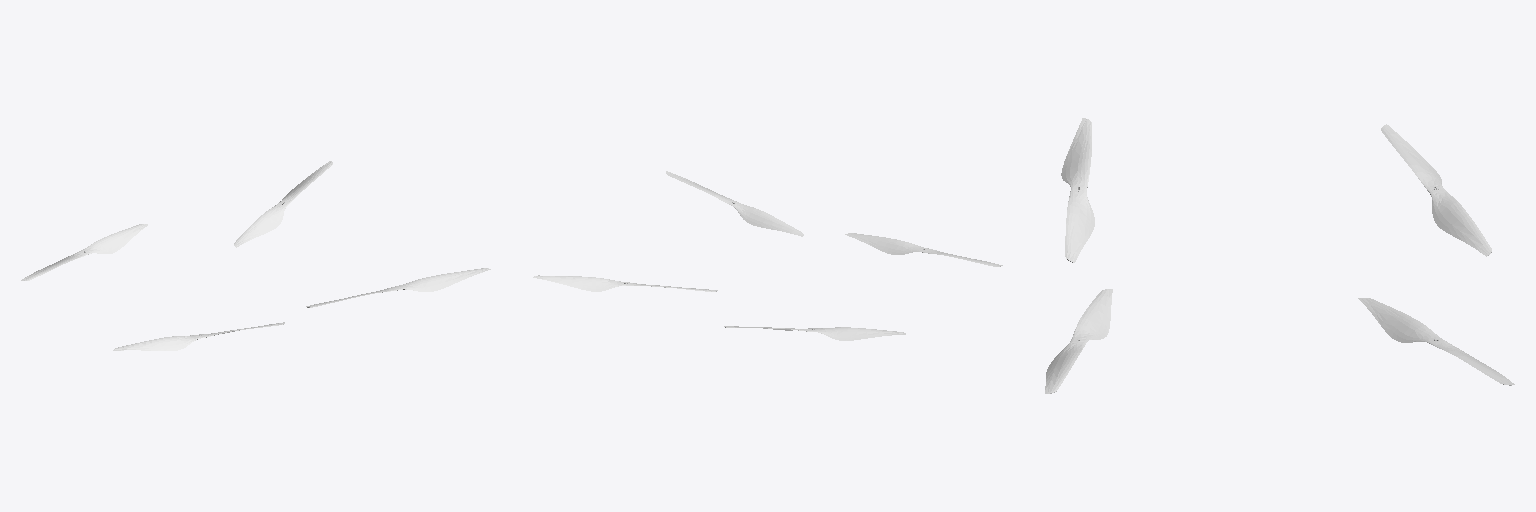
robot.urdf — aerial:
<?xml version="1.0" encoding="utf-8"?>
<!-- This URDF was automatically created by SolidWorks to URDF Exporter! Originally created by Stephen Brawner ([email redacted]) 
     Commit Version: 1.6.0-1-g15f4949  Build Version: 1.6.7594.29634
     For more information, please see http://wiki.ros.org/sw_urdf_exporter -->
<robot
  name="aerial">
  <link
    name="quadcore">
    <inertial>
      <origin
        xyz="0.009579 -0.0033492 -0.025285"
        rpy="0 0 0" />
      <mass
        value="5.2815" />
      <inertia
        ixx="0.022733"
        ixy="-3.0215E-05"
        ixz="2.666E-05"
        iyy="0.022153"
        iyz="-5.9394E-05"
        izz="0.034666" />
    </inertial>
    <visual>
      <origin
        xyz="0 0 0"
        rpy="0 0 0" />
      <geometry>
        <mesh
          filename="package://aerial/URDF/meshes/quadcore.STL" />
      </geometry>
      <material
        name="">
        <color
          rgba="0.75294 0.75294 0.75294 1" />
      </material>
    </visual>
    <collision>
      <origin
        xyz="0 0 0"
        rpy="0 0 0" />
      <geometry>
        <mesh
          filename="package://aerial/URDF/meshes/quadcore.STL" />
      </geometry>
    </collision>
  </link>
  <link
    name="frontright">
    <inertial>
      <origin
        xyz="-0.0016204 0.0016203 0.026192"
        rpy="0 0 0" />
      <mass
        value="0.096663" />
      <inertia
        ixx="9.7821E-05"
        ixy="0.00032002"
        ixz="-0.00010319"
        iyy="0.0013595"
        iyz="2.5135E-05"
        izz="0.0014378" />
    </inertial>
    <visual>
      <origin
        xyz="0 0 0"
        rpy="0 0 0" />
      <geometry>
        <mesh
          filename="package://aerial/URDF/meshes/frontright.STL" />
      </geometry>
      <material
        name="">
        <color
          rgba="0.92941 0.92941 0.92941 1" />
      </material>
    </visual>
    <collision>
      <origin
        xyz="0 0 0"
        rpy="0 0 0" />
      <geometry>
        <mesh
          filename="package://aerial/URDF/meshes/frontright.STL" />
      </geometry>
    </collision>
  </link>
  <joint
    name="frontrightlink"
    type="continuous">
    <origin
      xyz="0.32947 -0.32948 0.078321"
      rpy="0 0 0" />
    <parent
      link="quadcore" />
    <child
      link="frontright" />
    <axis
      xyz="-0.061628 0.061629 0.99619" />
  </joint>
  <link
    name="frontleft">
    <inertial>
      <origin
        xyz="-0.00086463 -0.00086464 0.013977"
        rpy="0 0 0" />
      <mass
        value="0.096713" />
      <inertia
        ixx="0.00041278"
        ixy="-0.00063121"
        ixz="-0.000103"
        iyy="0.0010477"
        iyz="-6.3724E-05"
        izz="0.0014362" />
    </inertial>
    <visual>
      <origin
        xyz="0 0 0"
        rpy="0 0 0" />
      <geometry>
        <mesh
          filename="package://aerial/URDF/meshes/frontleft.STL" />
      </geometry>
      <material
        name="">
        <color
          rgba="0.92941 0.92941 0.92941 1" />
      </material>
    </visual>
    <collision>
      <origin
        xyz="0 0 0"
        rpy="0 0 0" />
      <geometry>
        <mesh
          filename="package://aerial/URDF/meshes/frontleft.STL" />
      </geometry>
    </collision>
  </link>
  <joint
    name="frontleftlink"
    type="continuous">
    <origin
      xyz="0.32872 0.32872 0.090436"
      rpy="0 0 0" />
    <parent
      link="quadcore" />
    <child
      link="frontleft" />
    <axis
      xyz="-0.061629 -0.061628 0.99619" />
  </joint>
  <link
    name="backleft">
    <inertial>
      <origin
        xyz="0.0023096 -0.0023105 0.037348"
        rpy="0 0 0" />
      <mass
        value="0.096653" />
      <inertia
        ixx="0.00015919"
        ixy="-0.00042826"
        ixz="5.3098E-05"
        iyy="0.0012924"
        iyz="1.7007E-05"
        izz="0.0014435" />
    </inertial>
    <visual>
      <origin
        xyz="0 0 0"
        rpy="0 0 0" />
      <geometry>
        <mesh
          filename="package://aerial/URDF/meshes/backleft.STL" />
      </geometry>
      <material
        name="">
        <color
          rgba="0.92941 0.92941 0.92941 1" />
      </material>
    </visual>
    <collision>
      <origin
        xyz="0 0 0"
        rpy="0 0 0" />
      <geometry>
        <mesh
          filename="package://aerial/URDF/meshes/backleft.STL" />
      </geometry>
    </collision>
  </link>
  <joint
    name="backleftlink"
    type="continuous">
    <origin
      xyz="-0.33016 0.33017 0.067064"
      rpy="0 0 0" />
    <parent
      link="quadcore" />
    <child
      link="backleft" />
    <axis
      xyz="0.061628 -0.061629 0.99619" />
  </joint>
  <link
    name="backright">
    <inertial>
      <origin
        xyz="0.003428 0.0034264 0.055386"
        rpy="0 0 0" />
      <mass
        value="0.096765" />
      <inertia
        ixx="1.9104E-05"
        ixy="2.5228E-05"
        ixz="8.6761E-05"
        iyy="0.0014366"
        iyz="-9.3025E-07"
        izz="0.0014414" />
    </inertial>
    <visual>
      <origin
        xyz="0 0 0"
        rpy="0 0 0" />
      <geometry>
        <mesh
          filename="package://aerial/URDF/meshes/backright.STL" />
      </geometry>
      <material
        name="">
        <color
          rgba="0.92941 0.92941 0.92941 1" />
      </material>
    </visual>
    <collision>
      <origin
        xyz="0 0 0"
        rpy="0 0 0" />
      <geometry>
        <mesh
          filename="package://aerial/URDF/meshes/backright.STL" />
      </geometry>
    </collision>
  </link>
  <joint
    name="backrightlink"
    type="continuous">
    <origin
      xyz="-0.33128 -0.33128 0.049128"
      rpy="0 0 0" />
    <parent
      link="quadcore" />
    <child
      link="backright" />
    <axis
      xyz="0.061628 0.061628 0.99619" />
  </joint>

  <!-- IMU -->
  <link name='quadcore/ground_truth/odometry_sensorgt_link'>
    <inertial>
      <!-- <origin
        xyz="0 0 0" 
        rpy="0 0 0" /> -->
      <mass
        value="0.0015" />
      <inertia
        ixx="0.0001"
        ixy="0"
        ixz="0"
        iyy="0.0002"
        iyz="0"
        izz="0.0002" />
    </inertial>
  </link>
  <joint 
    name='quadcore/ground_truth/odometry_sensorgt_joint' 
    type='continuous'>
    <!-- <origin
      xyz="0 0 0"
      rpy="0 0 0" /> -->
    <child link = "quadcore/ground_truth/odometry_sensorgt_link"/>
    <parent link="quadcore"/>
    <axis xyz ="0 0 1"/>
    <!-- <dynamics damping="1.0"/> -->
    <!-- <use_parent_model_frame value="1"/> -->
    <!-- <physics>
      <ode implicit_spring_damper ="1"/>
    </physics> -->
  </joint>
  <link name='quadcore/imu_link'>
    <inertial>
      <!-- <origin
        xyz="0 0 0" 
        rpy="0 0 0" /> -->
      <mass
        value="0.0015" />
      <inertia
        ixx="0.00001"
        ixy="0"
        ixz="0"
        iyy="0.00002"
        iyz="0"
        izz="0.00002" />
    </inertial>
    <sensor name="imu_sensor" type="imu">
      <!-- <origin
        xyz="0 0 0" 
        rpy="3.14159 0 0" /> -->
      <always_on value="1"/>
      <update_rate value ="1"/>
    </sensor>
  </link>
  <joint name='quadcore/imu_joint' type='continuous'>
    <child link = "quadcore/imu_link"/>
    <parent link="quadcore"/>
    <axis xyz="0 0 1"/>
      <!-- <limit>
        <lower>0</lower>
        <upper>0</upper>
        <effort>0</effort>
        <velocity>0</velocity>
      </limit> 
      <dynamics>
        <damping>1.0</damping>
      </dynamics>
      <use_parent_model_frame>1</use_parent_model_frame>
    </axis> -->
    <!-- <physics>
      <ode>
        <implicit_spring_damper>1</implicit_spring_damper>
      </ode>
    </physics> -->
    <!-- <dynamics
      damping="1.0"/> -->
  </joint>

  <!-- Front Sonar Sensor -->
  <!-- <link name="base_sonar_front">
    <origin
      xyz="0.18 0 0.2" 
      rpy="0 0 0" />
    <collision name="sonar_collision">
      <geometry>
        <box
          size=".01 .01 .01"/>
      </geometry>
    </collision>
    <visual name="visual">
      <geometry>
        <box
          size=".01 .01 .01"/>
        </box>
      </geometry>
    </visual>
    <inertial>
      <mass
        value="0.1" />
      <inertia>
        <ixx>0.001</ixx>
        <ixy>0</ixy>
        <ixz>0</ixz>
        <iyy>0.001</iyy>
        <iyz>0</iyz>
        <izz>0.001</izz>
      </inertia>
    </inertial>
    <sensor type="ray" name="sonar_sensor">
      <visualize>true</visualize>
      <update_rate>10</update_rate>
      <ray>
          <scan>
            <horizontal>
                <samples>10</samples>
                <resolution>1</resolution> 
                <min_angle>-0.14835</min_angle>
                <max_angle>0.14835</max_angle>
            </horizontal>
            <vertical>
                <samples>10</samples>
                <resolution>1</resolution> 
                <min_angle>-0.14835</min_angle>
                <max_angle>0.14835</max_angle> 
            </vertical>
          </scan>
          <range>
            <min>0.06</min>
            <max>7</max>
            <resolution>0.02</resolution>
          </range>
      </ray>
      <plugin filename="libgazebo_ros_range_iq.so" name="gazebo_ros_range2">
        <gaussianNoise>0.005</gaussianNoise>
        <alwaysOn>true</alwaysOn>
        <updateRate>50</updateRate>
        <topicName>/mavros/distance_sensor/front</topicName>
        <frameName>base_sonar_front</frameName>
        <radiation>INFRARED</radiation>
        <fov>0.2967</fov>
      </plugin>
    </sensor>
  </link>

  <joint type="fixed" name="base_sonar_joint">
    <pose>0 0 0 0 0 0</pose>
    <parent>quadcore</parent>
    <child>base_sonar_front</child>
    <axis>
      <limit>
        <lower>0</lower>
        <upper>0</upper>
      </limit>
      <xyz>0 0 1</xyz>
      <use_parent_model_frame>true</use_parent_model_frame>
    </axis>
  </joint>   -->


  <!-- LeftSonar Sensor -->
  <!-- <link name="base_sonar_left">
    <pose>0 0.18 .2 0 0 1.57</pose>
    <collision name="sonar_collision">
      <geometry>
        <box>
          <size>.01 .01 .01</size>
        </box>
      </geometry>
    </collision>
    <visual name="visual">
      <geometry>
        <box>
          <size>0.01 0.01 0.01</size>
        </box>
      </geometry>
    </visual>
    <inertial>
      <mass>0.1</mass>
      <inertia>
        <ixx>0.001</ixx>
        <ixy>0</ixy>
        <ixz>0</ixz>
        <iyy>0.001</iyy>
        <iyz>0</iyz>
        <izz>0.001</izz>
      </inertia>
    </inertial>
    <sensor type="ray" name="sonar_sensor">
      <visualize>true</visualize>
      <update_rate>10</update_rate>
      <ray>
          <scan>
            <horizontal>
                <samples>10</samples>
                <resolution>1</resolution> 
                <min_angle>-0.14835</min_angle>
                <max_angle>0.14835</max_angle>
            </horizontal>
            <vertical>
                <samples>10</samples>
                <resolution>1</resolution> 
                <min_angle>-0.14835</min_angle>
                <max_angle>0.14835</max_angle> 
            </vertical>
          </scan>
          <range>
            <min>0.06</min>
            <max>7</max>
            <resolution>0.02</resolution>
          </range>
      </ray>
      <plugin filename="libgazebo_ros_range_iq.so" name="gazebo_ros_range2">
          <gaussianNoise>0.005</gaussianNoise>
          <alwaysOn>true</alwaysOn>
          <updateRate>50</updateRate>
          <topicName>/mavros/distance_sensor/left</topicName>
          <frameName>base_sonar_left</frameName>
          <radiation>INFRARED</radiation>
          <fov>0.2967</fov>
      </plugin>
    </sensor>
  </link>

  
  <joint type="fixed" name="base_sonar_joint_left">
    <pose>0 0 0 0 0 0</pose>
    <parent>quadcore</parent>
    <child>base_sonar_left</child>
    <axis>
      <limit>
        <lower>0</lower>
        <upper>0</upper>
      </limit>
      <xyz>0 0 1</xyz>
      <use_parent_model_frame>true</use_parent_model_frame>
    </axis>
  </joint>   -->


  <!-- Right Sonar Sensor -->
  <!-- <link name="base_sonar_right">
    <pose>0 -0.18 .2 0 0 -1.57</pose>
    <collision name="sonar_collision">
      <geometry>
        <box>
          <size>.01 .01 .01</size>
        </box>
      </geometry>
    </collision>
    <visual name="visual">
      <geometry>
        <box>
          <size>0.01 0.01 0.01</size>
        </box>
      </geometry>
    </visual>
    <inertial>
      <mass>0.1</mass>
      <inertia>
        <ixx>0.001</ixx>
        <ixy>0</ixy>
        <ixz>0</ixz>
        <iyy>0.001</iyy>
        <iyz>0</iyz>
        <izz>0.001</izz>
      </inertia>
    </inertial>
    <sensor type="ray" name="sonar_sensor">
      <visualize>true</visualize>
      <update_rate>10</update_rate>
      <ray>
          <scan>
            <horizontal>
                <samples>10</samples>
                <resolution>1</resolution> 
                <min_angle>-0.14835</min_angle>
                <max_angle>0.14835</max_angle>
            </horizontal>
            <vertical>
                <samples>10</samples>
                <resolution>1</resolution> 
                <min_angle>-0.14835</min_angle>
                <max_angle>0.14835</max_angle> 
            </vertical>
          </scan>
          <range>
            <min>0.06</min>
            <max>7</max>
            <resolution>0.02</resolution>
          </range>
      </ray>
      <plugin filename="libgazebo_ros_range_iq.so" name="gazebo_ros_range2">
          <gaussianNoise>0.005</gaussianNoise>
          <alwaysOn>true</alwaysOn>
          <updateRate>50</updateRate>
          <topicName>/mavros/distance_sensor/right</topicName>
          <frameName>base_sonar_right</frameName>
          <radiation>INFRARED</radiation>
          <fov>0.2967</fov>
      </plugin>
    </sensor>
  </link>

  <joint type="fixed" name="base_sonar_joint_right">
    <pose>0 0 0 0 0 0</pose>
    <parent>quadcore</parent>
    <child>base_sonar_right</child>
    <axis>
      <limit>
        <lower>0</lower>
        <upper>0</upper>
      </limit>
      <xyz>0 0 1</xyz>
      <use_parent_model_frame>true</use_parent_model_frame>
    </axis>
  </joint>   -->


  <!-- Back Sonar Sensor -->
  <!-- <link name="base_sonar_back">
    <pose>-0.18 0 0.2 0 0 3.14</pose>
    <collision name="sonar_collision">
      <geometry>
        <box>
          <size>.01 .01 .01</size>
        </box>
      </geometry>
    </collision>
    <visual name="visual">
      <geometry>
        <box>
          <size>0.01 0.01 0.01</size>
        </box>
      </geometry>
    </visual>
    <inertial>
      <mass>0.1</mass>
      <inertia>
        <ixx>0.001</ixx>
        <ixy>0</ixy>
        <ixz>0</ixz>
        <iyy>0.001</iyy>
        <iyz>0</iyz>
        <izz>0.001</izz>
      </inertia>
    </inertial>
    <sensor type="ray" name="sonar_sensor">
      <visualize>true</visualize>
      <update_rate>10</update_rate>
      <ray>
          <scan>
            <horizontal>
                <samples>10</samples>
                <resolution>1</resolution> 
                <min_angle>-0.14835</min_angle>
                <max_angle>0.14835</max_angle>
            </horizontal>
            <vertical>
                <samples>10</samples>
                <resolution>1</resolution> 
                <min_angle>-0.14835</min_angle>
                <max_angle>0.14835</max_angle> 
            </vertical>
          </scan>
          <range>
            <min>0.06</min>
            <max>7</max>
            <resolution>0.02</resolution>
          </range>
      </ray>
      <plugin filename="libgazebo_ros_range_iq.so" name="gazebo_ros_range2">
          <gaussianNoise>0.005</gaussianNoise>
          <alwaysOn>true</alwaysOn>
          <updateRate>50</updateRate>
          <topicName>/mavros/distance_sensor/back</topicName>
          <frameName>base_sonar_back</frameName>
          <radiation>INFRARED</radiation>
          <fov>0.2967</fov>
      </plugin>
    </sensor>
  </link> -->
  
  <!-- <joint type="fixed" name="base_sonar_joint_back">
    <pose>0 0 0 0 0 0</pose>
    <parent>quadcore</parent>
    <child>base_sonar_back</child>
    <axis>
      <limit>
        <lower>0</lower>
        <upper>0</upper>
      </limit>
      <xyz>0 0 1</xyz>
      <use_parent_model_frame>true</use_parent_model_frame>
    </axis>
  </joint>      -->

  <gazebo reference="quadcore">
    <material>Gazebo/Black</material>
  </gazebo>
  <gazebo reference="frontright">
    <material>Gazebo/Black</material>
  </gazebo>
  <gazebo reference="frontleft">
    <material>Gazebo/Black</material>
  </gazebo>
  <gazebo reference="backright">
    <material>Gazebo/Black</material>
  </gazebo>
  <gazebo reference="backleft">
    <material>Gazebo/Black</material>
  </gazebo>

  <gazebo> 
    <!-- plugins -->
    <plugin name="frontright" filename="libLiftDragPlugin.so">
      <a0>0.3</a0>
      <alpha_stall>1.4</alpha_stall>
      <cla>4.2500</cla>
      <cda>0.10</cda>
      <cma>0.00</cma>
      <cla_stall>-0.025</cla_stall>
      <cda_stall>0.0</cda_stall>
      <cma_stall>0.0</cma_stall>
      <area>0.002</area>
      <air_density>1.2041</air_density>
      <cp>0.084 0 0</cp>
      <forward>0 1 0</forward>
      <upward>0 0 1</upward>
      <link_name>quadcore::frontright</link_name>
    </plugin>
    <!-- <plugin name="rotor_0_blade_2" filename="libLiftDragPlugin.so">
      <a0>0.3</a0>
      <alpha_stall>1.4</alpha_stall>
      <cla>4.2500</cla>
      <cda>0.10</cda>
      <cma>0.00</cma>
      <cla_stall>-0.025</cla_stall>
      <cda_stall>0.0</cda_stall>
      <cma_stall>0.0</cma_stall>
      <area>0.002</area>
      <air_density>1.2041</air_density>
      <cp>-0.084 0 0</cp>
      <forward>0 -1 0</forward>
      <upward>0 0 1</upward>
      <link_name>quadcore::frontright</link_name>
    </plugin> -->

    <plugin name="frontleft" filename="libLiftDragPlugin.so">
      <a0>0.3</a0>
      <alpha_stall>1.4</alpha_stall>
      <cla>4.2500</cla>
      <cda>0.10</cda>
      <cma>0.00</cma>
      <cla_stall>-0.025</cla_stall>
      <cda_stall>0.0</cda_stall>
      <cma_stall>0.0</cma_stall>
      <area>0.002</area>
      <air_density>1.2041</air_density>
      <cp>0.084 0 0</cp>
      <forward>0 1 0</forward>
      <upward>0 0 1</upward>
      <link_name>quadcore::frontleft</link_name>
    </plugin>
    <!-- <plugin name="rotor_1_blade_2" filename="libLiftDragPlugin.so">
      <a0>0.3</a0>
      <alpha_stall>1.4</alpha_stall>
      <cla>4.2500</cla>
      <cda>0.10</cda>
      <cma>0.00</cma>
      <cla_stall>-0.025</cla_stall>
      <cda_stall>0.0</cda_stall>
      <cma_stall>0.0</cma_stall>
      <area>0.002</area>
      <air_density>1.2041</air_density>
      <cp>-0.084 0 0</cp>
      <forward>0 -1 0</forward>
      <upward>0 0 1</upward>
      <link_name>quadcore::frontleft</link_name>
    </plugin> -->

    <plugin name="backleft" filename="libLiftDragPlugin.so">
      <a0>0.3</a0>
      <alpha_stall>1.4</alpha_stall>
      <cla>4.2500</cla>
      <cda>0.10</cda>
      <cma>0.00</cma>
      <cla_stall>-0.025</cla_stall>
      <cda_stall>0.0</cda_stall>
      <cma_stall>0.0</cma_stall>
      <area>0.002</area>
      <air_density>1.2041</air_density>
      <cp>0.084 0 0</cp>
      <forward>0 -1 0</forward>
      <upward>0 0 1</upward>
      <link_name>quadcore::backleft</link_name>
    </plugin>
    <!-- <plugin name="rotor_2_blade_1" filename="libLiftDragPlugin.so">
      <a0>0.3</a0>
      <alpha_stall>1.4</alpha_stall>
      <cla>4.2500</cla>
      <cda>0.10</cda>
      <cma>0.00</cma>
      <cla_stall>-0.025</cla_stall>
      <cda_stall>0.0</cda_stall>
      <cma_stall>0.0</cma_stall>
      <area>0.002</area>
      <air_density>1.2041</air_density>
      <cp>-0.084 0 0</cp>
      <forward>0 1 0</forward>
      <upward>0 0 1</upward>
      <link_name>iris::rotor_2</link_name>
    </plugin> -->

    <plugin name="backright" filename="libLiftDragPlugin.so">
      <a0>0.3</a0>
      <alpha_stall>1.4</alpha_stall>
      <cla>4.2500</cla>
      <cda>0.10</cda>
      <cma>0.00</cma>
      <cla_stall>-0.025</cla_stall>
      <cda_stall>0.0</cda_stall>
      <cma_stall>0.0</cma_stall>
      <area>0.002</area>
      <air_density>1.2041</air_density>
      <cp>0.084 0 0</cp>
      <forward>0 -1 0</forward>
      <upward>0 0 1</upward>
      <link_name>quadcore::backright</link_name>
    </plugin>
    <!-- <plugin name="rotor_3_blade_2" filename="libLiftDragPlugin.so">
      <a0>0.3</a0>
      <alpha_stall>1.4</alpha_stall>
      <cla>4.2500</cla>
      <cda>0.10</cda>
      <cma>0.00</cma>
      <cla_stall>-0.025</cla_stall>
      <cda_stall>0.0</cda_stall>
      <cma_stall>0.0</cma_stall>
      <area>0.002</area>
      <air_density>1.2041</air_density>
      <cp>-0.084 0 0</cp>
      <forward>0 1 0</forward>
      <upward>0 0 1</upward>
      <link_name>iris::rotor_3</link_name>
    </plugin> -->

    

      <!--
          incoming control command [0, 1]
          so offset it by 0 to get [0, 1]
          and divide max target by 1.
          offset = 0
          multiplier = 838 max rpm / 1 = 838
        -->
      <!--
          Require by APM :
          Only change model and gazebo from XYZ to XY-Z coordinates
      -->

    <plugin name="arducopter_plugin" filename="libArduPilotPlugin.so">
      <fdm_addr>127.0.0.1</fdm_addr>
      <fdm_port_in>9002</fdm_port_in>
      <fdm_port_out>9003</fdm_port_out>

      <modelXYZToAirplaneXForwardZDown>0 0 0 3.141593 0 0</modelXYZToAirplaneXForwardZDown>
      <gazeboXYZToNED>0 0 0 3.141593 0 0</gazeboXYZToNED>
      <imuName>quadcore::quadcore/imu_link::imu_sensor</imuName>
      <connectionTimeoutMaxCount>5</connectionTimeoutMaxCount>
      <control channel="0">
        <type>VELOCITY</type>
        <offset>0</offset>
        <p_gain>0.20</p_gain>
        <i_gain>0</i_gain>
        <d_gain>0</d_gain>
        <i_max>0</i_max>
        <i_min>0</i_min>
        <cmd_max>2.5</cmd_max>
        <cmd_min>-2.5</cmd_min>
        <jointName>quadcore::frontright</jointName>
        <multiplier>838</multiplier>
        <controlVelocitySlowdownSim>1</controlVelocitySlowdownSim>
      </control>
      <control channel="1">
        <type>VELOCITY</type>
        <offset>0</offset>
        <p_gain>0.20</p_gain>
        <i_gain>0</i_gain>
        <d_gain>0</d_gain>
        <i_max>0</i_max> 
        <i_min>0</i_min>
        <cmd_max>2.5</cmd_max>
        <cmd_min>-2.5</cmd_min>
        <jointName>quadcore::frontleft</jointName>
        <multiplier>838</multiplier>
        <controlVelocitySlowdownSim>1</controlVelocitySlowdownSim>
      </control>
      <control channel="2">
        <type>VELOCITY</type>
        <offset>0</offset>
        <p_gain>0.20</p_gain>
        <i_gain>0</i_gain>
        <d_gain>0</d_gain>
        <i_max>0</i_max>
        <i_min>0</i_min>
        <cmd_max>2.5</cmd_max>
        <cmd_min>-2.5</cmd_min>
        <jointName>quadcore::backleft</jointName>
        <multiplier>-838</multiplier>
        <controlVelocitySlowdownSim>1</controlVelocitySlowdownSim>
      </control>
      <control channel="3">
        <type>VELOCITY</type>
        <offset>0</offset>
        <p_gain>0.20</p_gain>
        <i_gain>0</i_gain>
        <d_gain>0</d_gain>
        <i_max>0</i_max>
        <i_min>0</i_min>
        <cmd_max>2.5</cmd_max>
        <cmd_min>-2.5</cmd_min>
        <jointName>quadcore::backright</jointName>
        <multiplier>-838</multiplier>
        <controlVelocitySlowdownSim>1</controlVelocitySlowdownSim>
      </control>
    </plugin>
  </gazebo>

</robot>

--- What the picture shows (computed from the rendered views, not written in the file) ---
Views: 3 orthographic renders of the robot side by side, from view 1: azimuth 30°, elevation 25°; view 2: azimuth 150°, elevation 25°; view 3: azimuth 270°, elevation 25°.
Model aerial with 7 links and 6 joints (6 continuous), rooted at quadcore, posed every joint at zero.
Links seen in each view (by area): view 1: frontleft, backleft, frontright, backright; view 2: frontright, backright, frontleft, backleft; view 3: backleft, backright, frontright, frontleft.
Link boxes in pixels (x1,y1,x2,y2): frontleft: [234, 161, 332, 247]; backleft: [21, 224, 147, 280]; frontright: [306, 268, 490, 307]; backright: [113, 322, 284, 350]; frontright: [666, 171, 803, 236]; backright: [845, 233, 1002, 266]; frontleft: [533, 275, 717, 291]; backleft: [724, 326, 905, 340]; backleft: [1381, 124, 1491, 256]; backright: [1061, 118, 1094, 262]; frontright: [1045, 289, 1112, 393]; frontleft: [1358, 298, 1514, 385].
Size in the robot's own frame: 1.21 by 0.8628 by 0.0509 metres.
4 mesh visuals loaded from 5 distinct referenced files (4 binary STL); not drawn: 1 (reference not matched to a file when rendering).
